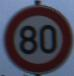Speed Limit -80-: (0, 0, 73, 75)
